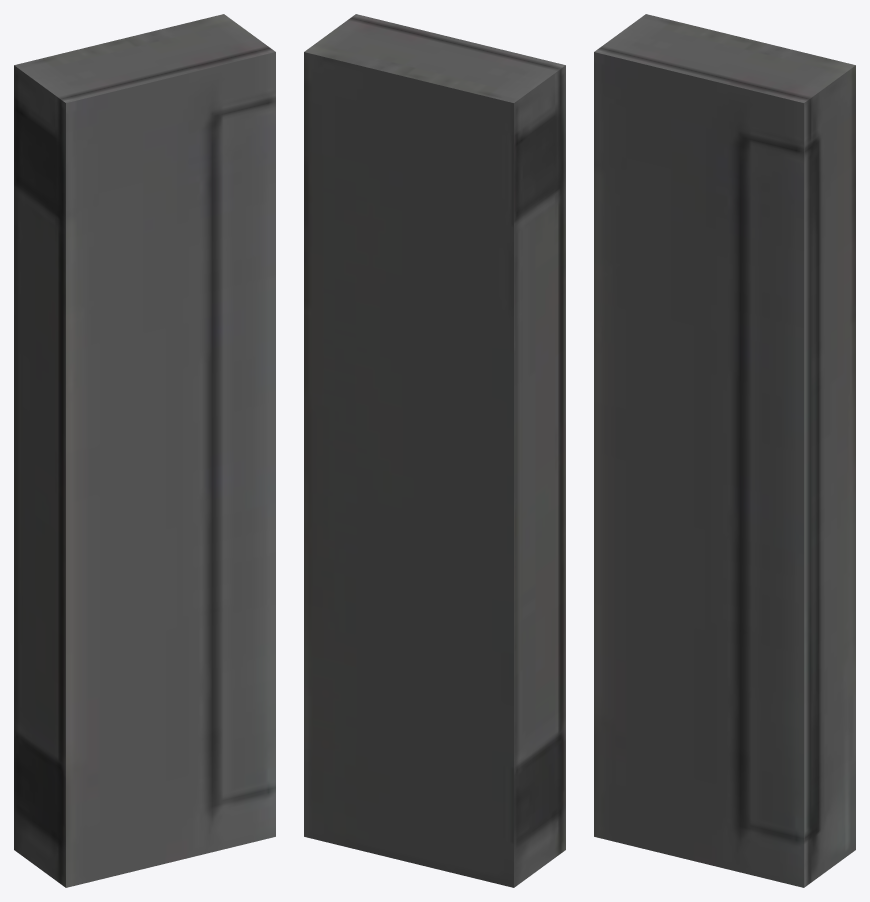
Rendered from backrest__hinge_cross_brace.glb.
3 renders of one model, left to right at view 1: azimuth 30°, elevation 25°; view 2: azimuth 150°, elevation 25°; view 3: azimuth 330°, elevation 25°, orthographic.
Visible parts, largest first — view 1: world; view 2: world; view 3: world.
Part boxes in pixels (box(x1,y1,x2,y2)): world: box(14, 14, 275, 887); world: box(304, 14, 565, 887); world: box(594, 14, 855, 887).
Bounding box in the file's own units: 0.07 × 0.25 × 0.03.
Materials: 1 (1 with a texture image).
